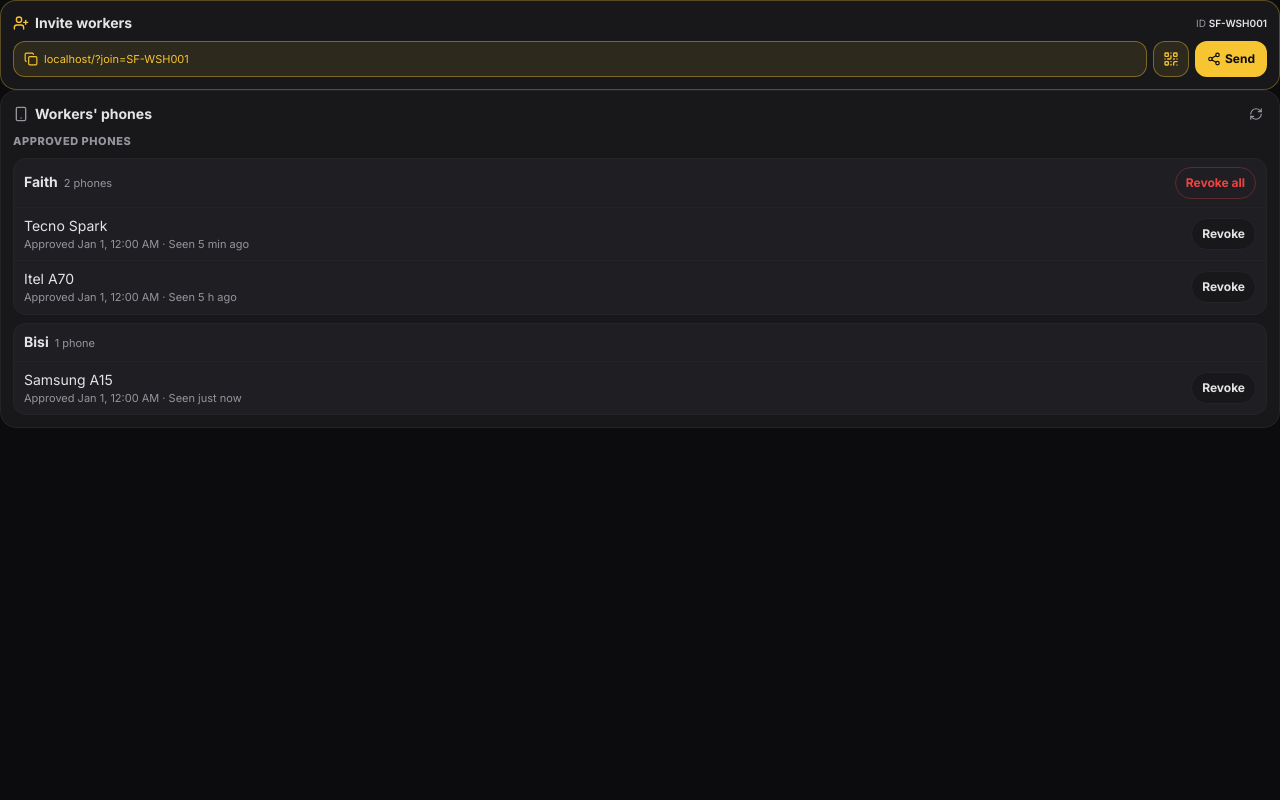
it: approved phones, under each worker › offers Revoke all for a worker with more than one phone, and takes them all
The width and height of the screenshot is (1280, 800).
Expected: the text "Tecno Spark" is shown, [24,216,107,234]
Click the button "Revoke all" at (1215, 182), box [1175,166,1256,198]
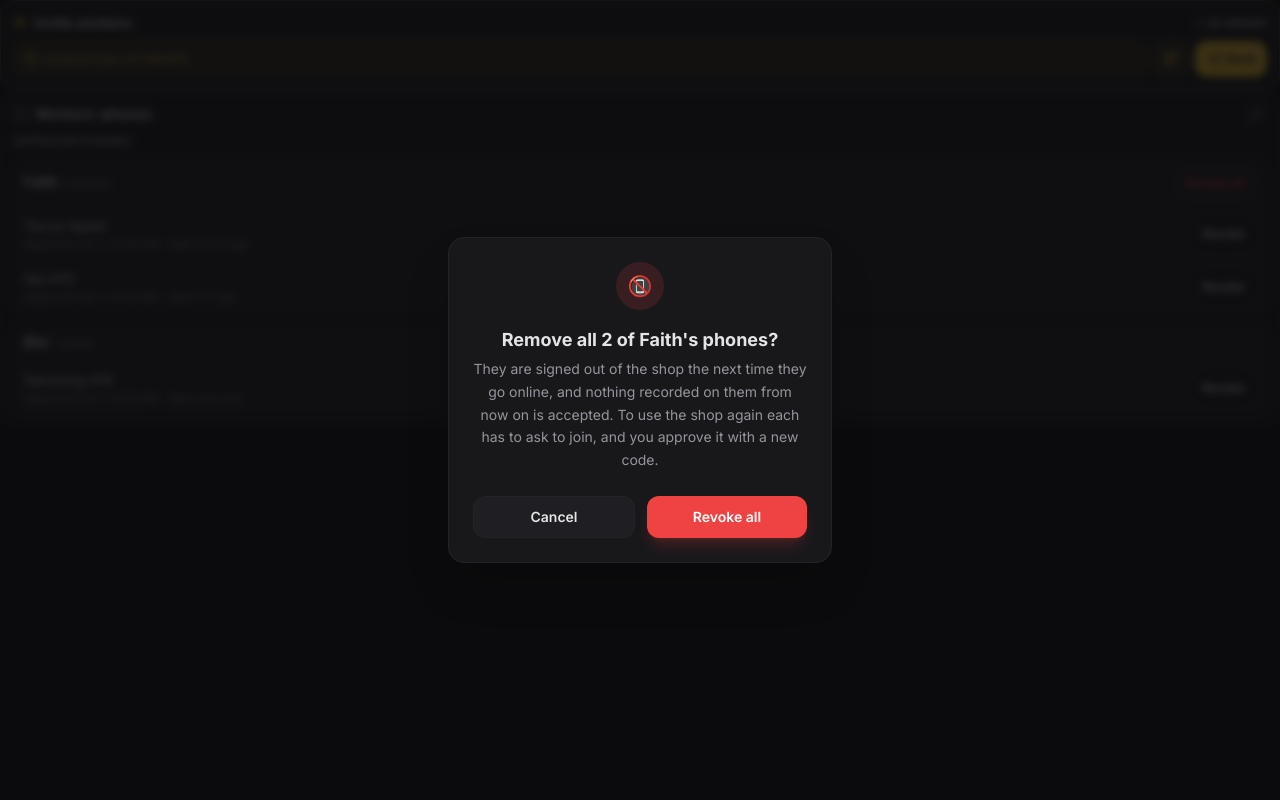
Now the heading "Remove all 2 of Faith's phones?" is shown, box [502,329,778,350]
Click the button "Revoke all" at (727, 517), box [647,496,807,538]
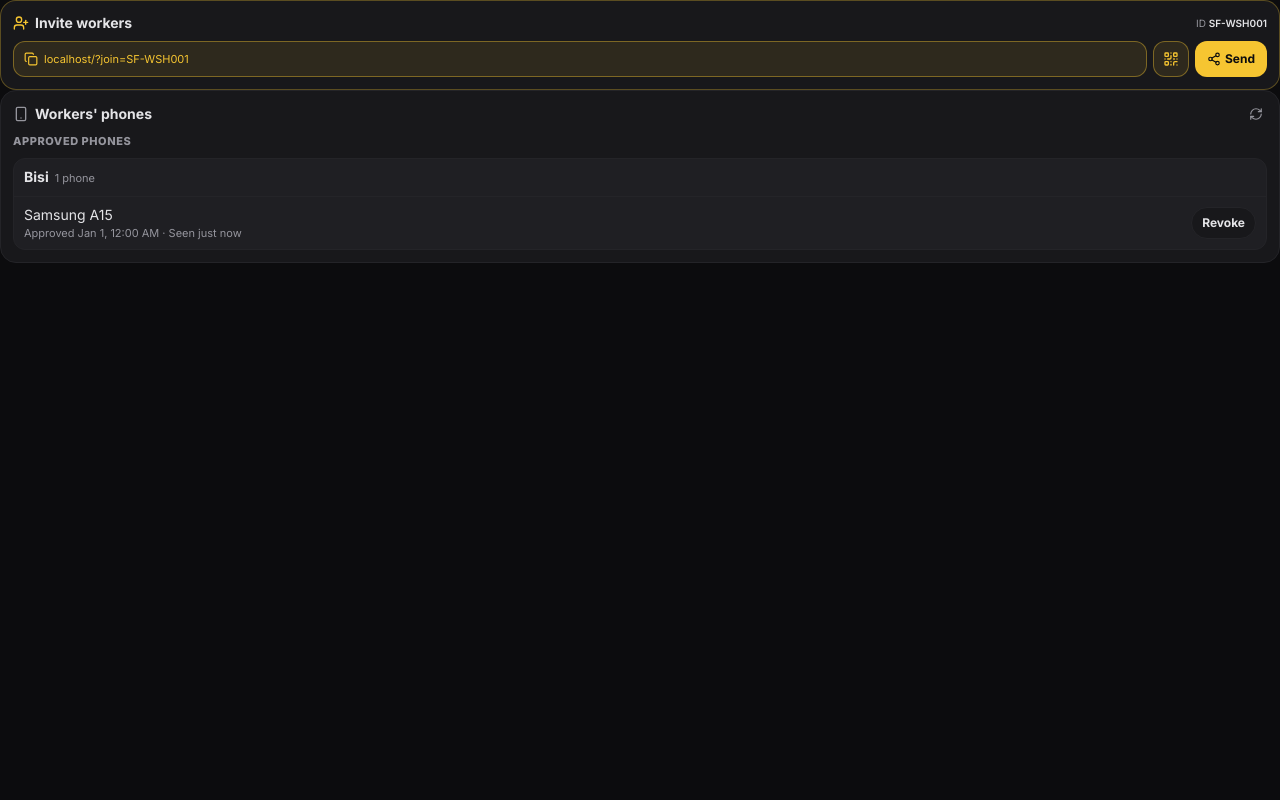
Expected: the text "Itel A70" is not shown
Now the text "Tecno Spark" is gone
